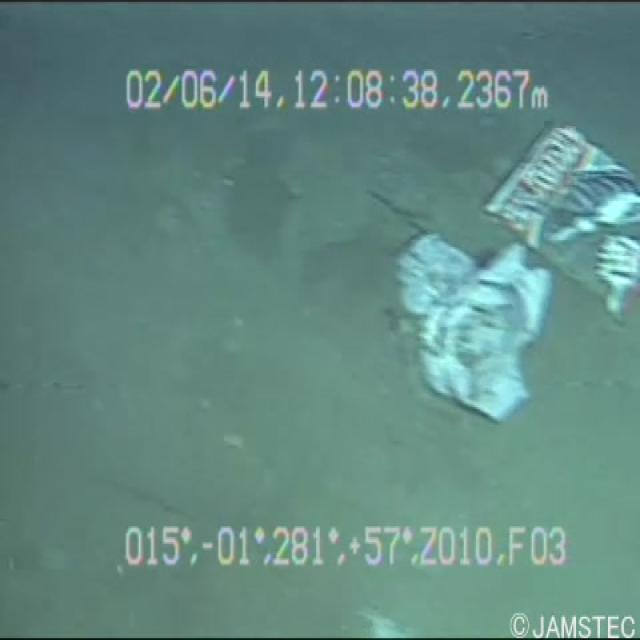plastic: (369, 199, 551, 434), (468, 96, 639, 329)
